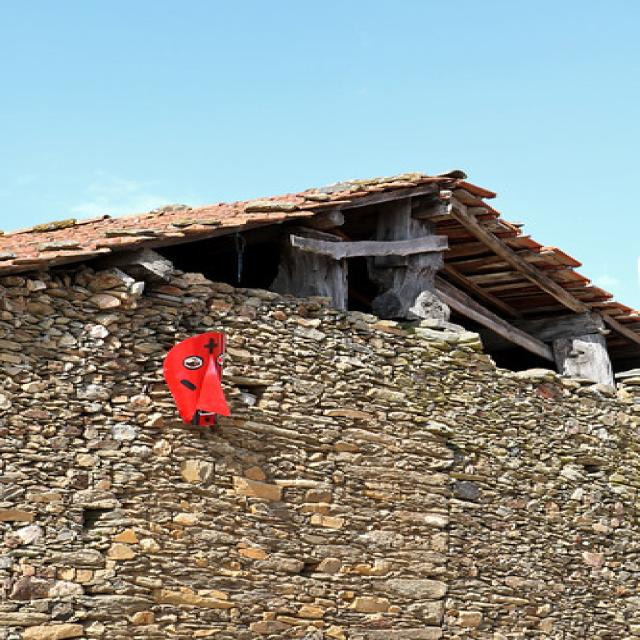building: (4, 166, 640, 624)
